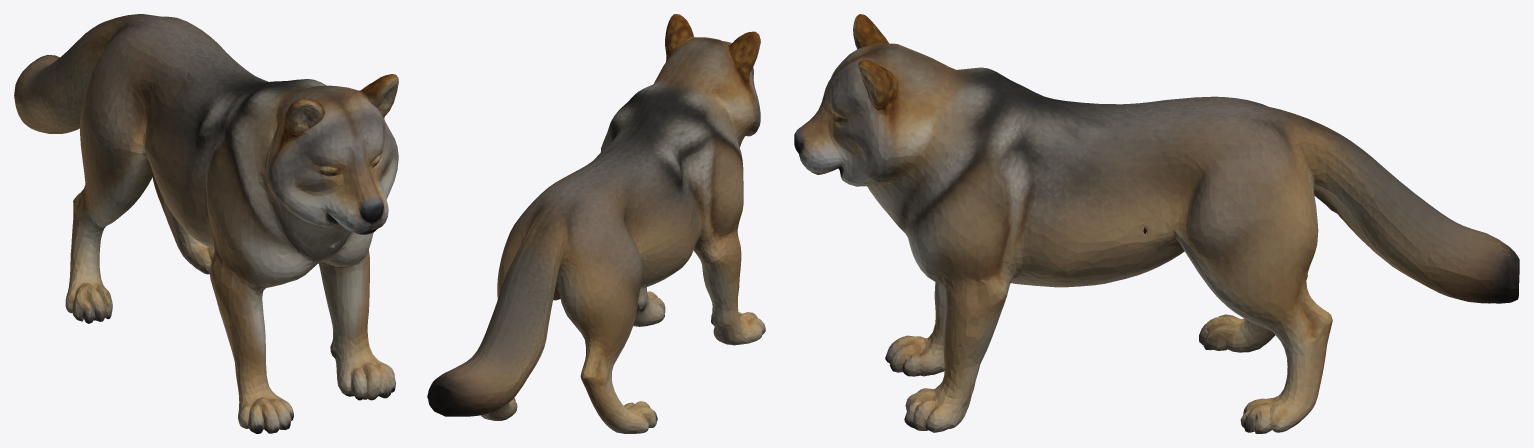
3 renders of one model, left to right at view 1: azimuth 30°, elevation 25°; view 2: azimuth 150°, elevation 25°; view 3: azimuth 270°, elevation 25°, orthographic. The views are drawn at different scales.
Visible parts, largest first — view 1: world; view 2: world; view 3: world.
Boxes of the visible parts, x1,y1,x2,y2 form: world: (14, 14, 398, 433); world: (427, 14, 765, 433); world: (794, 14, 1519, 433).
Bounding box in the file's own units: 0.312 × 0.5471 × 1.
Materials: 1 (1 with a texture image).
